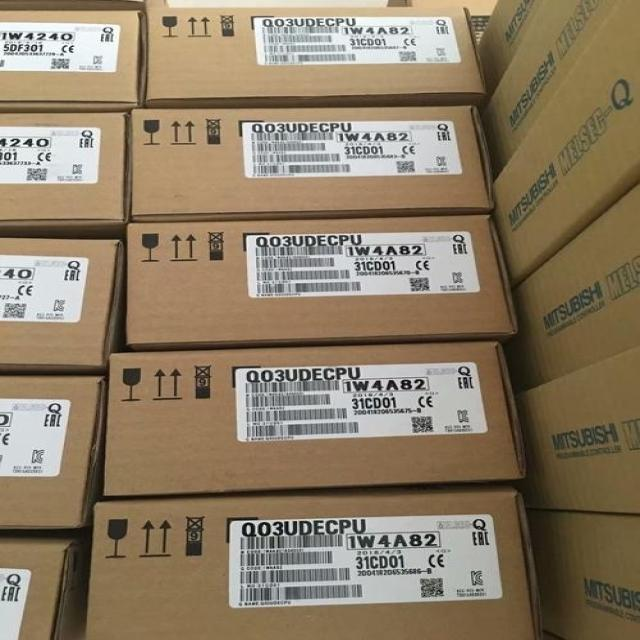box: (84, 486, 541, 639), (103, 341, 526, 496), (126, 214, 517, 351), (130, 105, 495, 223), (491, 0, 639, 289), (145, 6, 487, 108), (501, 183, 639, 394), (479, 1, 617, 178), (513, 345, 639, 513), (0, 376, 108, 529), (0, 238, 125, 370), (0, 113, 130, 229), (0, 10, 146, 113), (528, 511, 639, 639), (0, 539, 80, 639), (477, 0, 544, 94)
